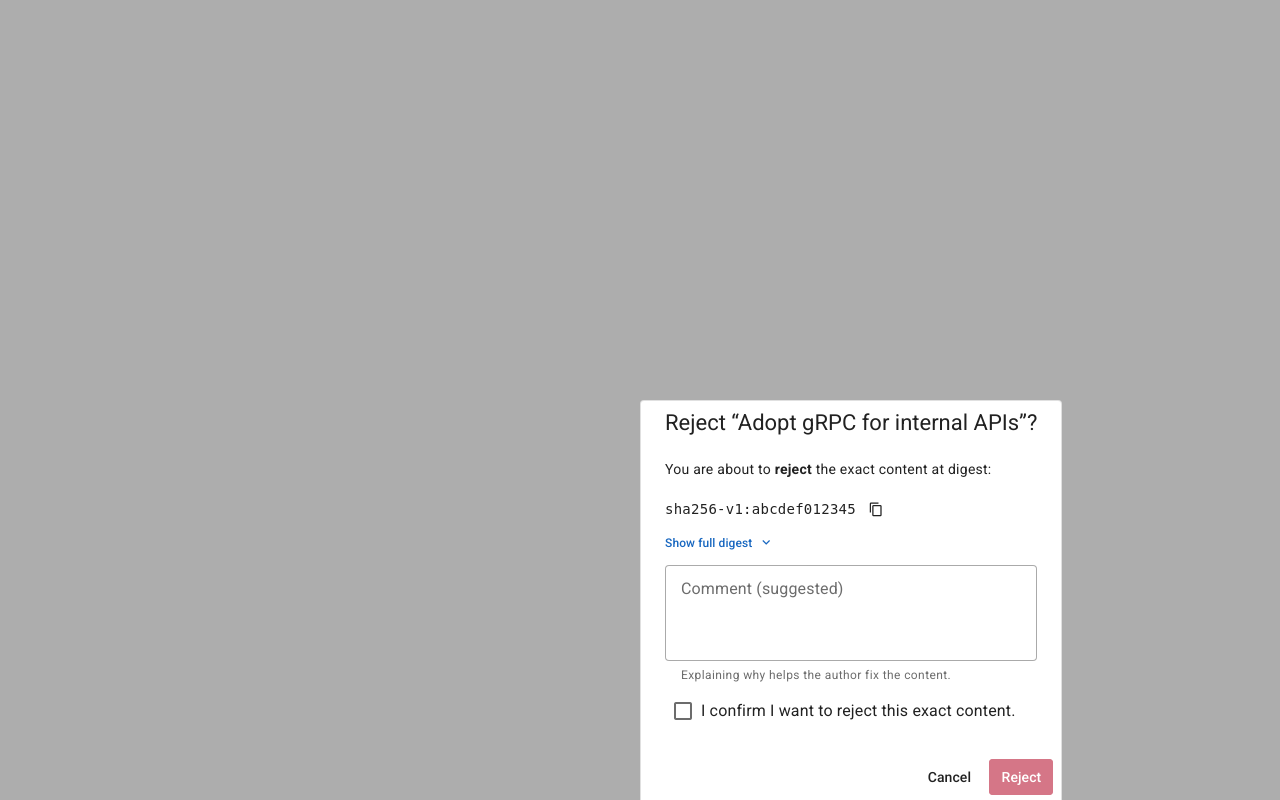
Test case: DecisionDialog › disables Reject until the confirmation checkbox is checked
expect the button "Reject" is disabled: met, box [989, 759, 1053, 795]
What coordinates should you click on to do the following:
click the checkbox labelled "I confirm I want to reject this exact content."
I would click on:
 (858, 710)
Its box is [701, 701, 1016, 720].
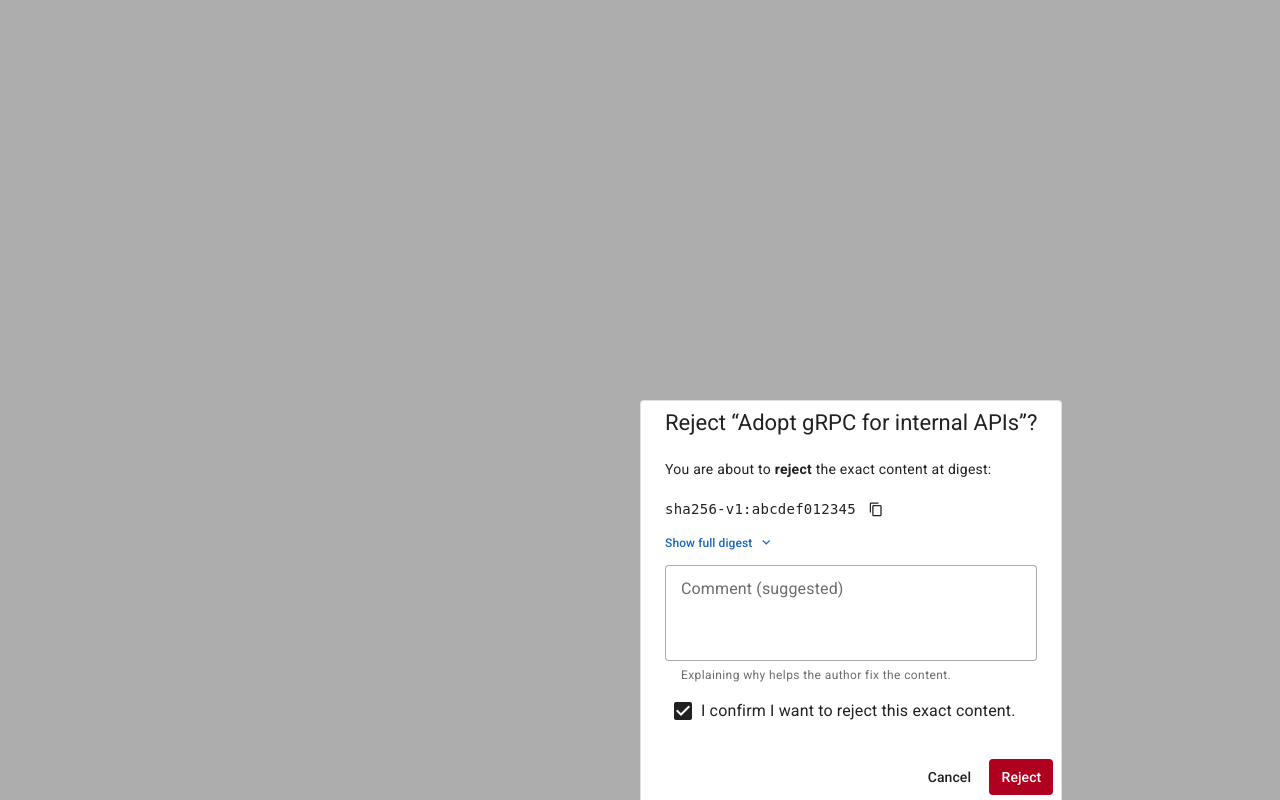
expect the button "Reject" is enabled: met, box [989, 759, 1053, 795]
